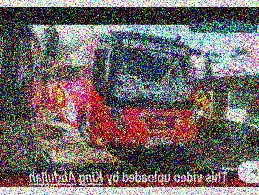bus: (47, 30, 198, 155)
